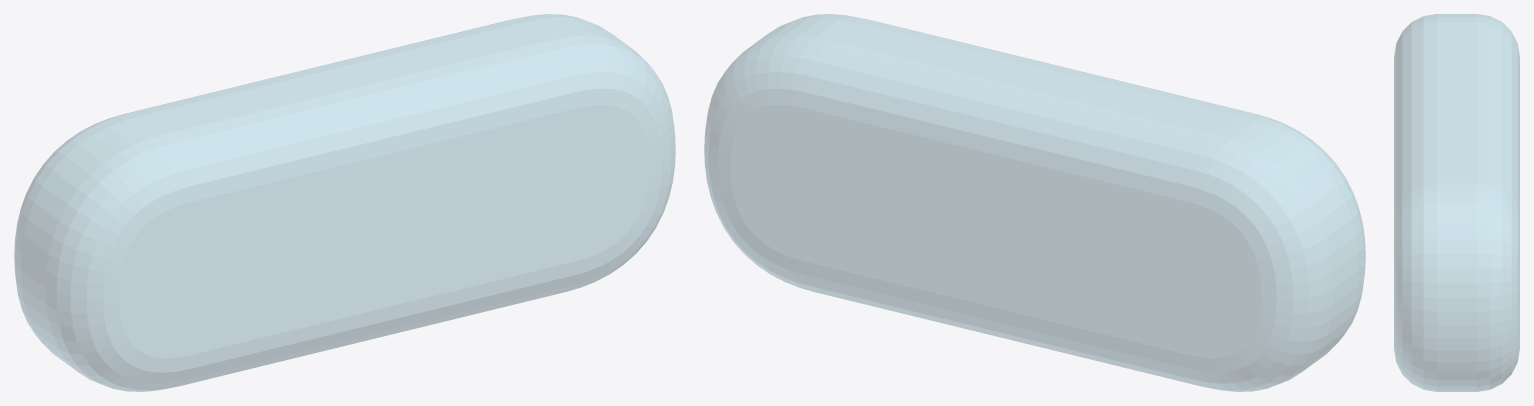
The picture shows the model from 3 angles, left to right: view 1: azimuth 30°, elevation 25°; view 2: azimuth 150°, elevation 25°; view 3: azimuth 270°, elevation 25°; orthographic projection. The views are drawn at different scales.
Parts seen in each view (by area): view 1: gel-body; view 2: gel-body; view 3: gel-body.
Boxes of the visible parts, x1=… form: gel-body: x1=14, y1=14, x2=675, y2=391; gel-body: x1=704, y1=14, x2=1365, y2=391; gel-body: x1=1394, y1=14, x2=1519, y2=391.
Size of the model in its own units: 2.3 by 0.88 by 0.5.
